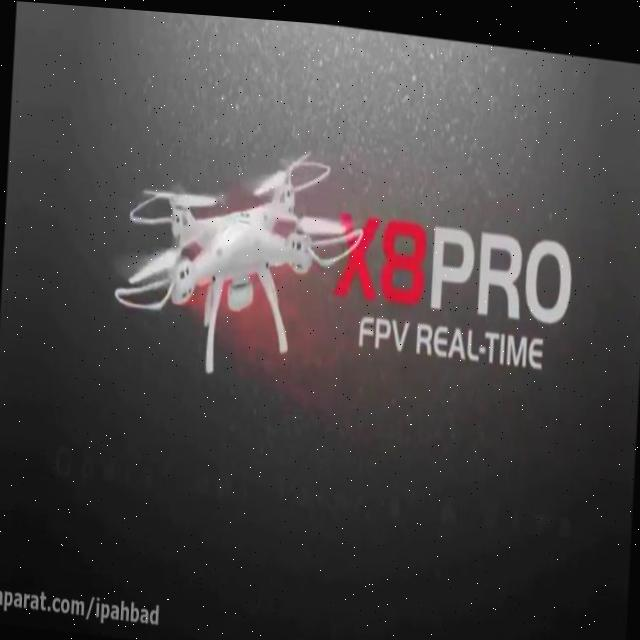drone: (109, 122, 367, 392)
